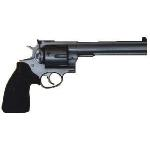Pistol: (1, 36, 147, 113)
